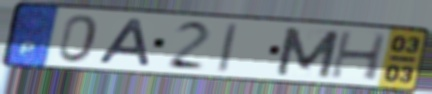0: (57, 14, 101, 64)
2: (160, 21, 216, 71)
A: (95, 17, 154, 69)
H: (327, 29, 390, 82)
I: (214, 21, 241, 75)
M: (272, 25, 343, 80)
